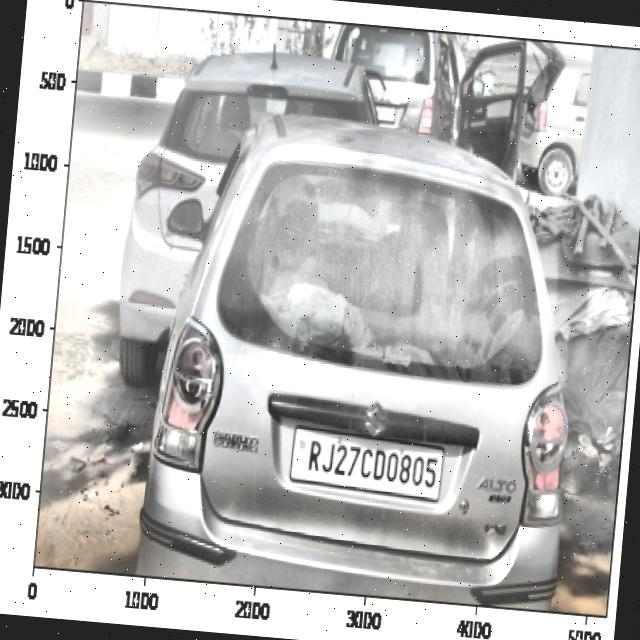license_plate: (299, 429, 442, 498)
